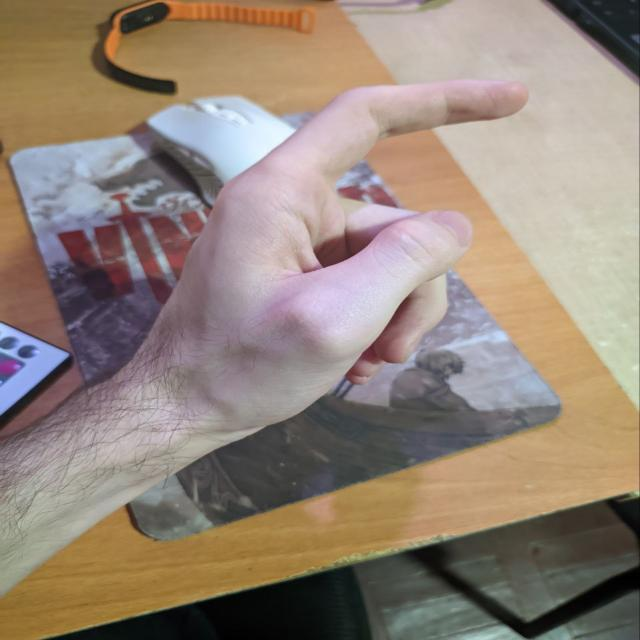kh: (197, 64, 528, 444)
